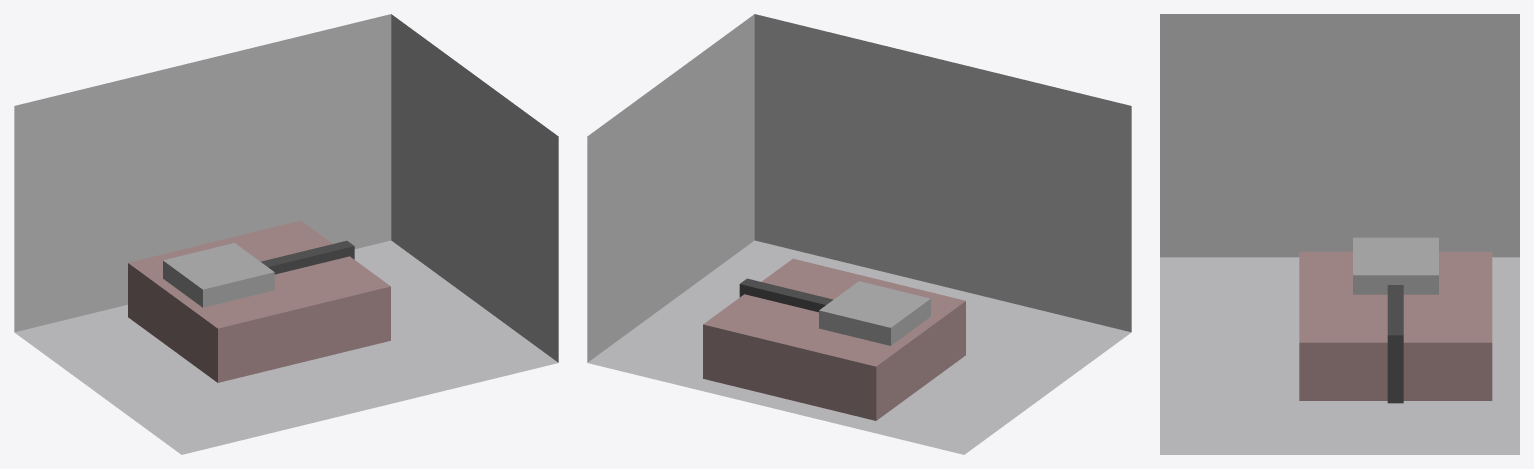
The model's file is current_layout.glb.
The picture shows the model from 3 angles, left to right: view 1: azimuth 30°, elevation 25°; view 2: azimuth 150°, elevation 25°; view 3: azimuth 270°, elevation 25°; orthographic projection. The views are drawn at different scales.
Parts seen in each view (by area): view 1: room, bed, wardrobe, tables, tv; view 2: room, bed, tables, tv, wardrobe; view 3: room, bed, tables, tv, wardrobe.
Part boxes in pixels (<box>): room: <box>14,14,558,454</box>; bed: <box>128,220,390,382</box>; wardrobe: <box>163,243,271,307</box>; tables: <box>166,243,274,290</box>; tv: <box>261,240,354,274</box>; room: <box>587,14,1131,454</box>; bed: <box>703,258,965,420</box>; tables: <box>819,281,917,345</box>; tv: <box>739,278,833,312</box>; wardrobe: <box>822,292,930,345</box>; room: <box>1160,14,1519,454</box>; bed: <box>1299,251,1492,400</box>; tables: <box>1353,240,1438,294</box>; tv: <box>1387,285,1403,403</box>; wardrobe: <box>1353,237,1438,292</box>.
Bounding box in the file's own units: 4.36 × 2.5 × 3.35.
